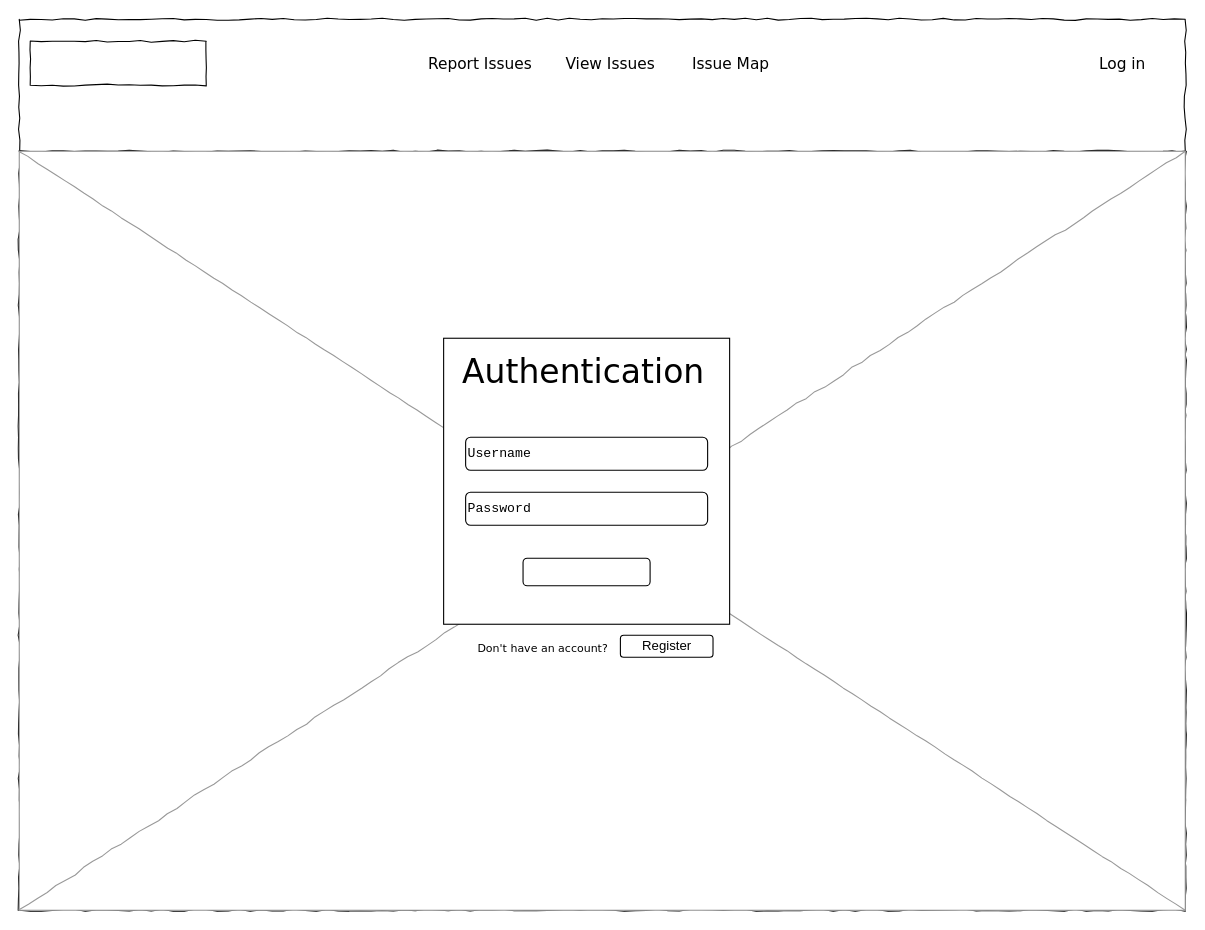
This 1205x930 diagram has some shape labels left out. The centre of each missing label's shape, as x and y in pixels:
"Login" goes at [586,571].
"LOGO" goes at [117,62].
